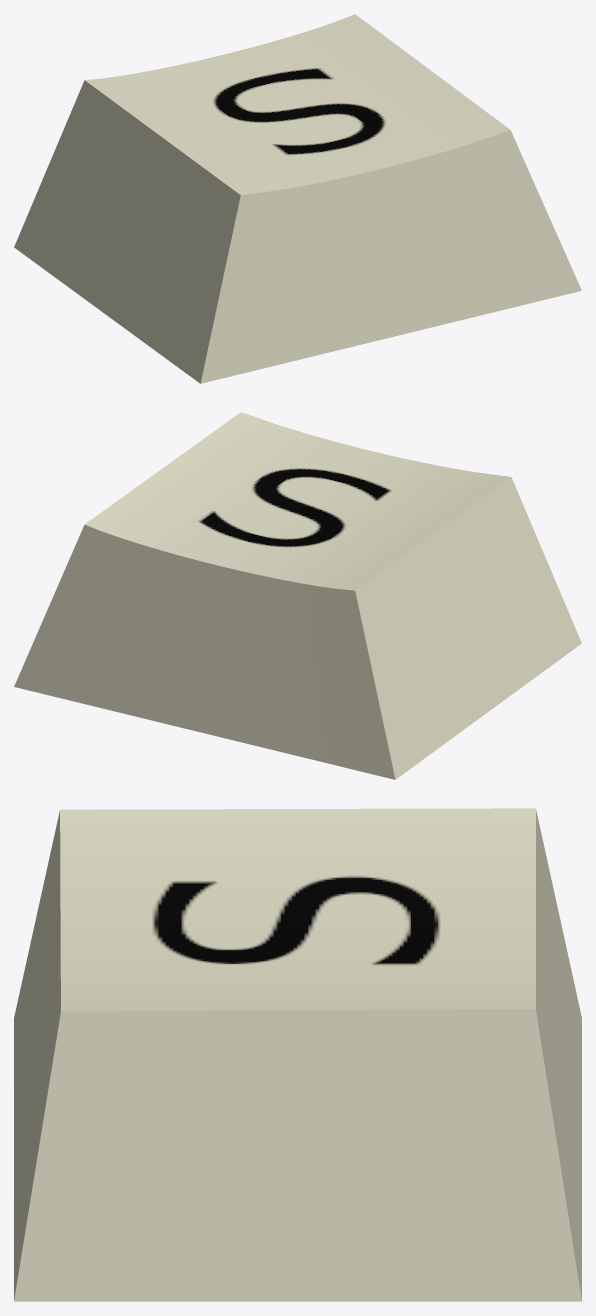
Rendered from Keycap.fbx.
3 renders of one model, top to bottom at view 1: azimuth 30°, elevation 25°; view 2: azimuth 150°, elevation 25°; view 3: azimuth 270°, elevation 25°, orthographic. The views are drawn at different scales.
Visible parts, largest first — view 1: Cube; view 2: Cube; view 3: Cube.
Part boxes in pixels (bbox=[...]): Cube: bbox=[14, 14, 581, 383]; Cube: bbox=[14, 412, 581, 779]; Cube: bbox=[14, 808, 581, 1301].
Size of the model in its own units: 282 by 116 by 239.
